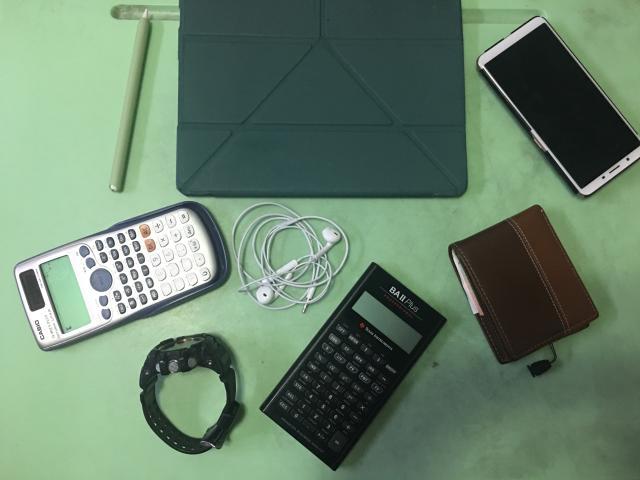Mobile phone: (476, 16, 640, 196)
Wallet: (449, 205, 599, 364)
Watch: (140, 334, 240, 454)
wire: (232, 202, 349, 312)
